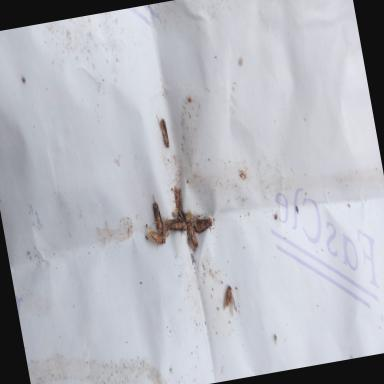pbw: (147, 194, 165, 238), (162, 216, 192, 238), (146, 226, 168, 252), (220, 285, 238, 316), (170, 184, 186, 216), (156, 113, 170, 149), (192, 215, 215, 235), (186, 216, 200, 248), (187, 234, 197, 252), (184, 210, 198, 220)
